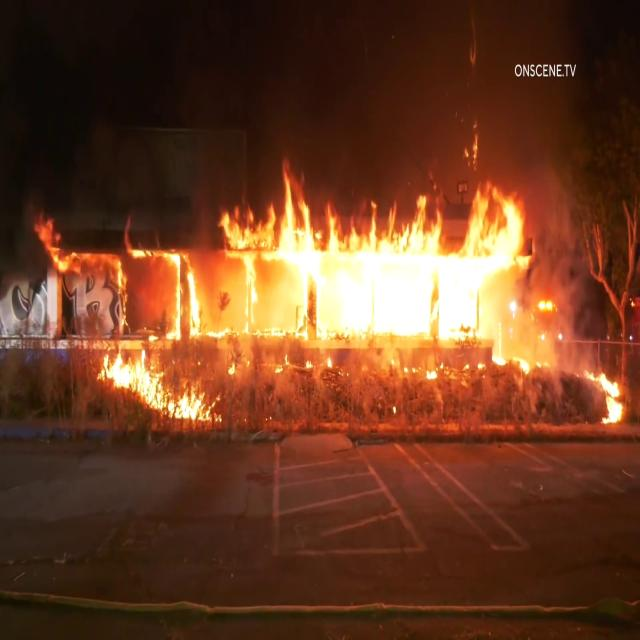fire: (223, 180, 520, 362), (98, 354, 225, 430)
